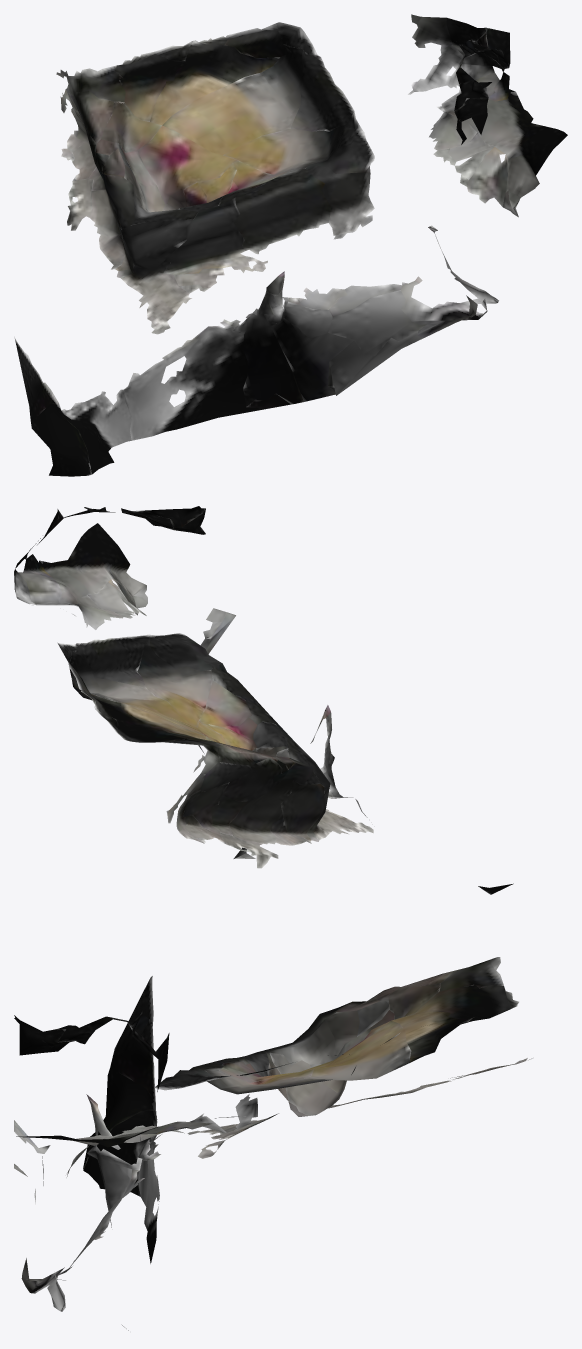
File: hall.glb
3 views of the same model, one above another, from view 1: azimuth 30°, elevation 25°; view 2: azimuth 150°, elevation 25°; view 3: azimuth 270°, elevation 25° (orthographic). The views are drawn at different scales.
Size of the model in its own units: 0.7434 by 0.45 by 0.5644.
1 material, 1 textured.
